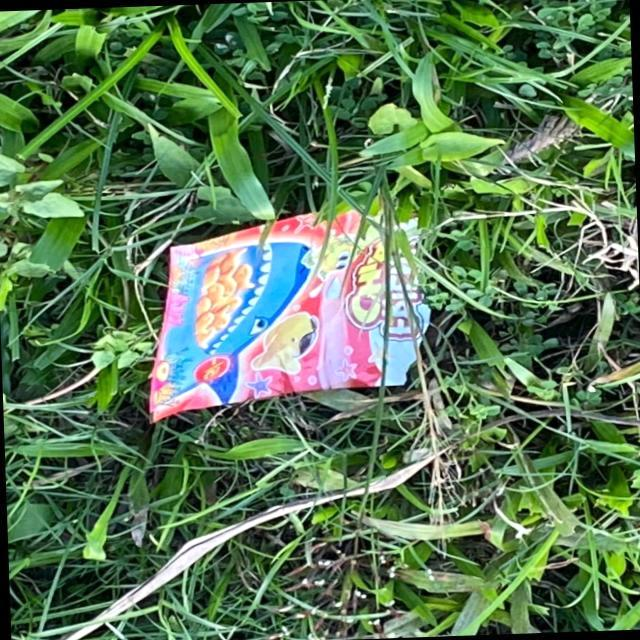packet: (140, 210, 445, 419)
